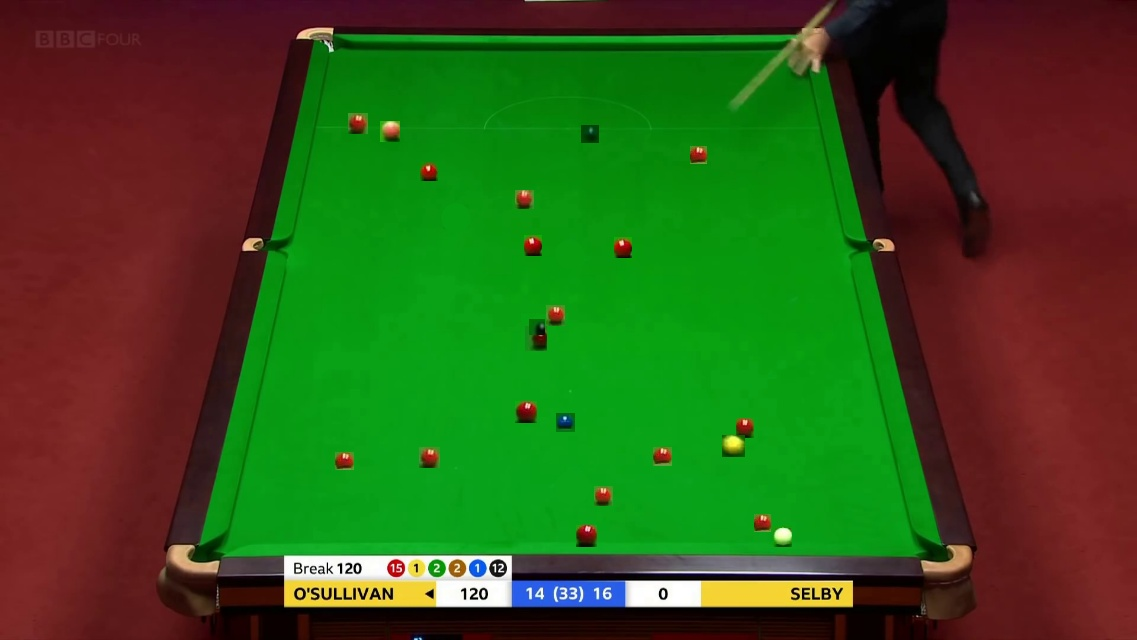black: (529, 319, 545, 335)
blue: (556, 413, 575, 432)
brown: (525, 326, 550, 348)
green: (581, 125, 599, 143)
pink: (380, 121, 401, 141)
red: (515, 401, 537, 423), (576, 525, 598, 546), (419, 447, 440, 468), (348, 113, 369, 133), (546, 305, 567, 324), (594, 486, 614, 505), (614, 237, 635, 255), (524, 235, 545, 253), (653, 447, 672, 466), (515, 190, 534, 209), (736, 418, 756, 436), (420, 162, 439, 180), (335, 452, 353, 471), (690, 146, 708, 163), (754, 514, 772, 531)
white: (773, 526, 794, 545)
yellow: (722, 435, 744, 458)
